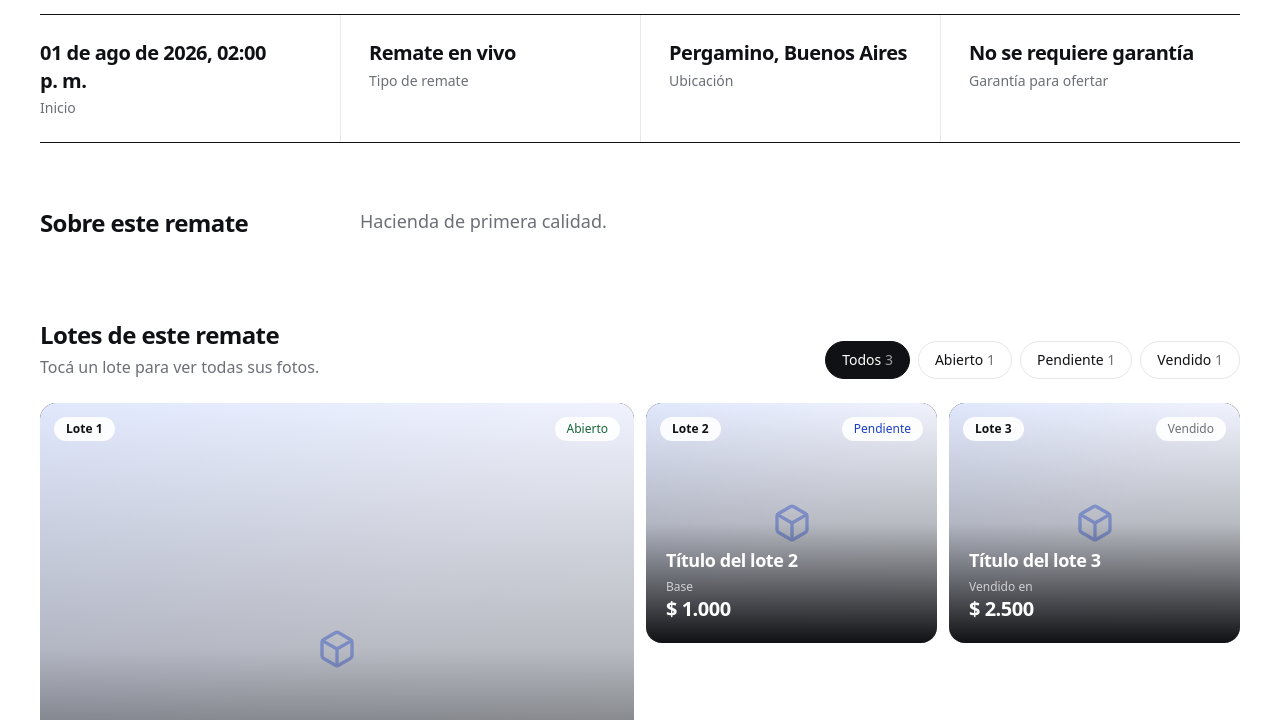
Test case: RemateDetailPage › el filtro por estado deja solo los lotes de ese estado
(page scrolled)
Expected: the button with aria-label "Lote 2:" is shown, [646,403,937,643]
Click the button "Pendiente 1". click: x=1076, y=360
box: [1020,341,1132,379]
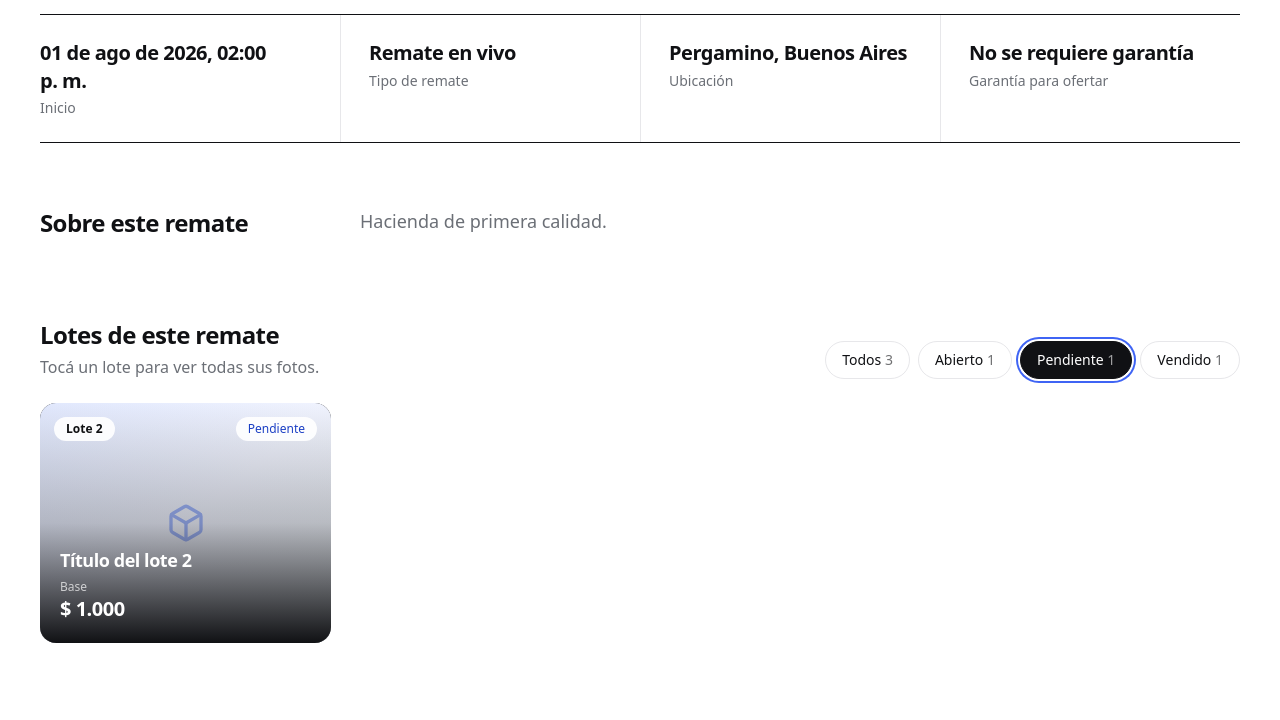
Expected: the button with aria-label "Lote 2:" is shown, [40,403,331,643]
Click the button "Todos 3". click: x=868, y=360
box: [825,341,910,379]
(page scrolled)
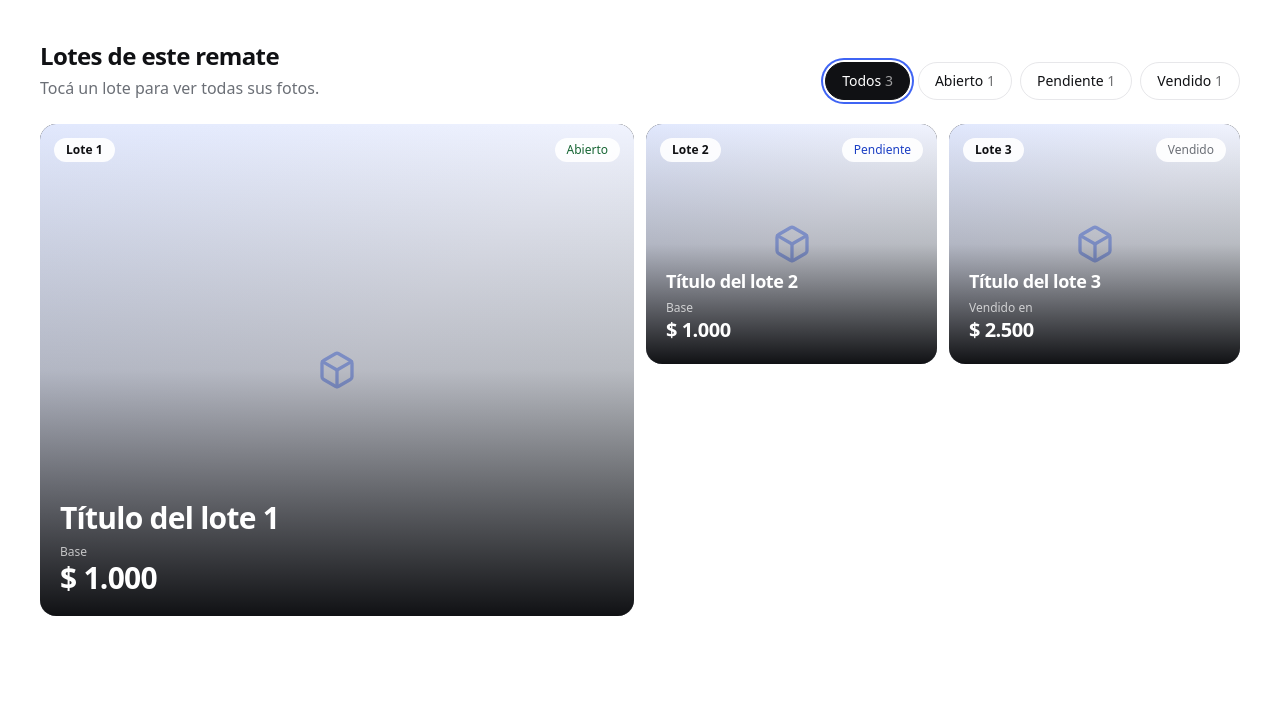
Expected: the button with aria-label "Lote 1:" is shown, [40,124,634,616]
